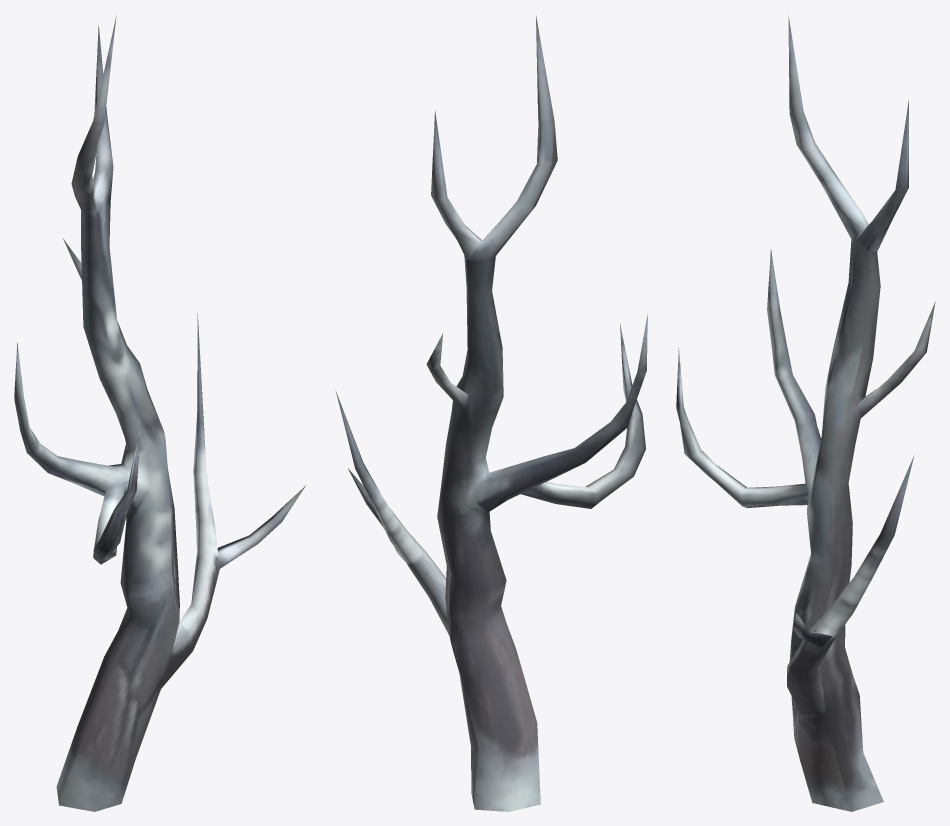
The model's file is LGhuangyuan_shu04.FBX.
3 views of the same model, side by side, from view 1: azimuth 30°, elevation 25°; view 2: azimuth 150°, elevation 25°; view 3: azimuth 270°, elevation 25° (orthographic). The views are drawn at different scales.
Visible parts, largest first — view 1: LGhuangyuan_shu04; view 2: LGhuangyuan_shu04; view 3: LGhuangyuan_shu04.
Part boxes in pixels (x1,y1,x2,y2): LGhuangyuan_shu04: (14,15,305,811); LGhuangyuan_shu04: (336,15,647,811); LGhuangyuan_shu04: (676,14,935,811).
Size of the model in its own units: 253 by 193 by 641.
